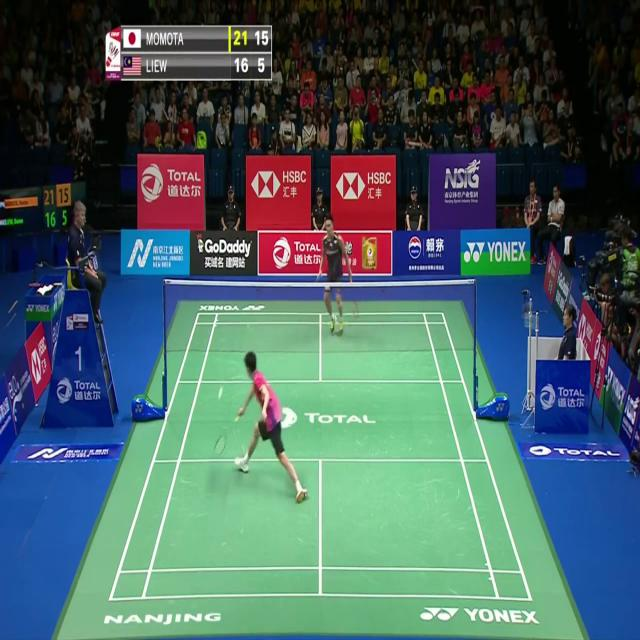Shuttlecock: (217, 387, 224, 399)
